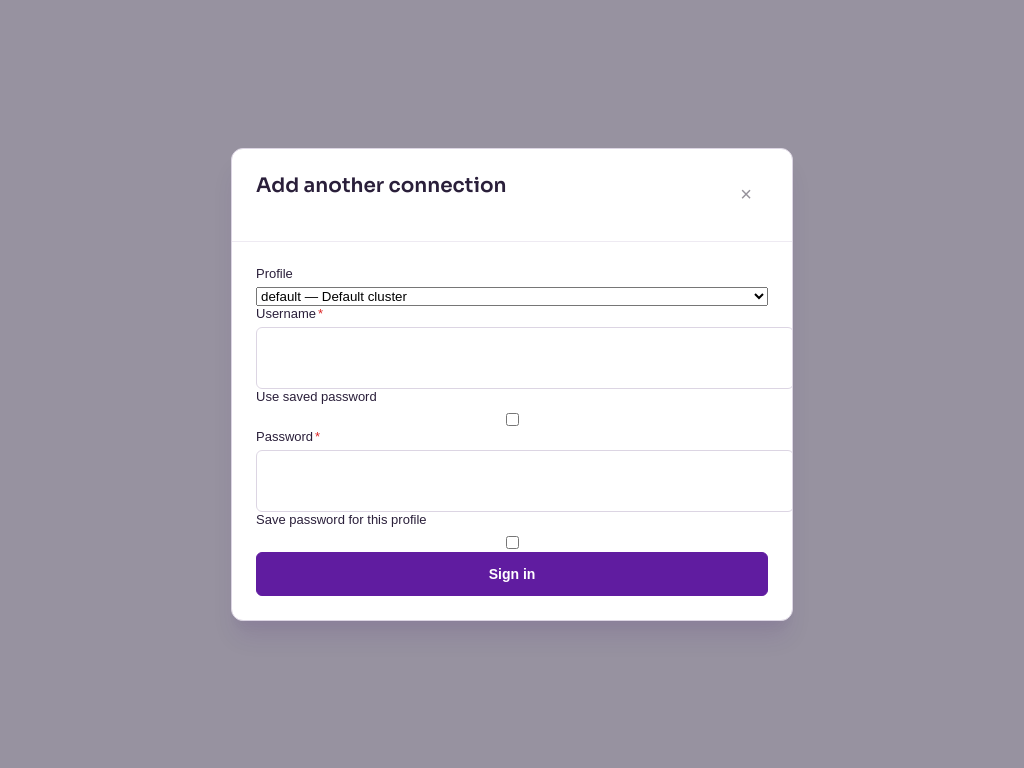
Test case: PSR-G04: submit failure renders an inline error message
Check: the dropdown labelled "Profile" is shown, box [256, 286, 768, 306]
In the field labelled "Username*": (525, 358) [256, 326, 794, 388], type "alice"
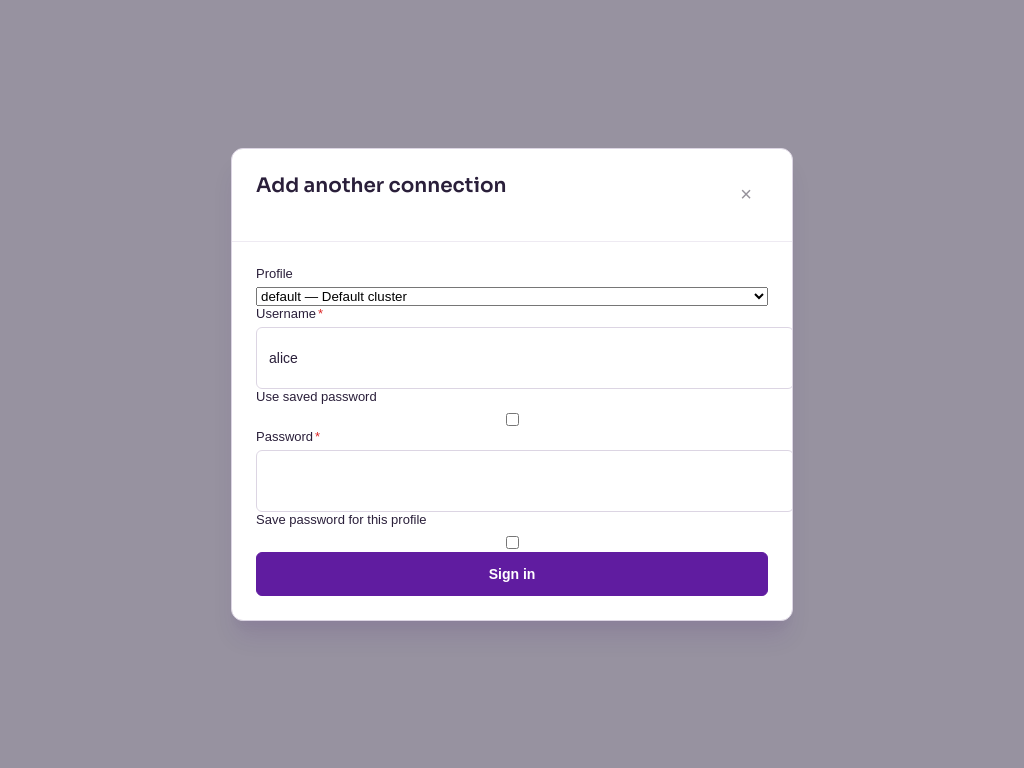
In the password field labelled "Password*": (525, 480) [256, 450, 794, 512], type "pw"
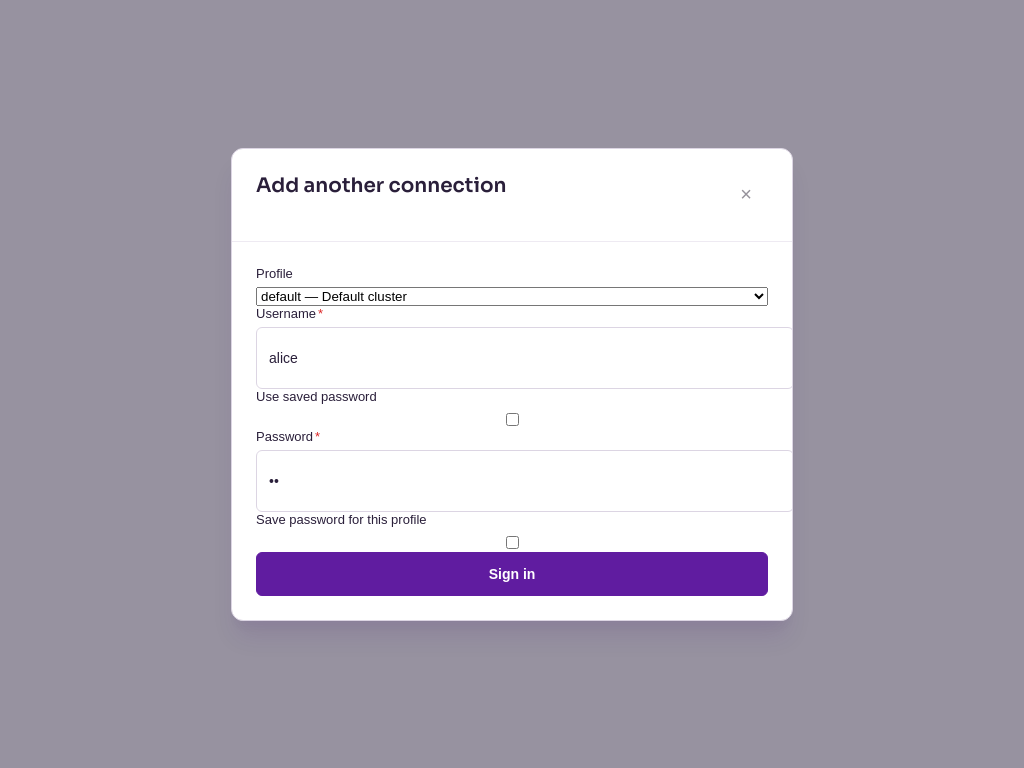
Submit the form labelled "Username", box [256, 266, 768, 596]
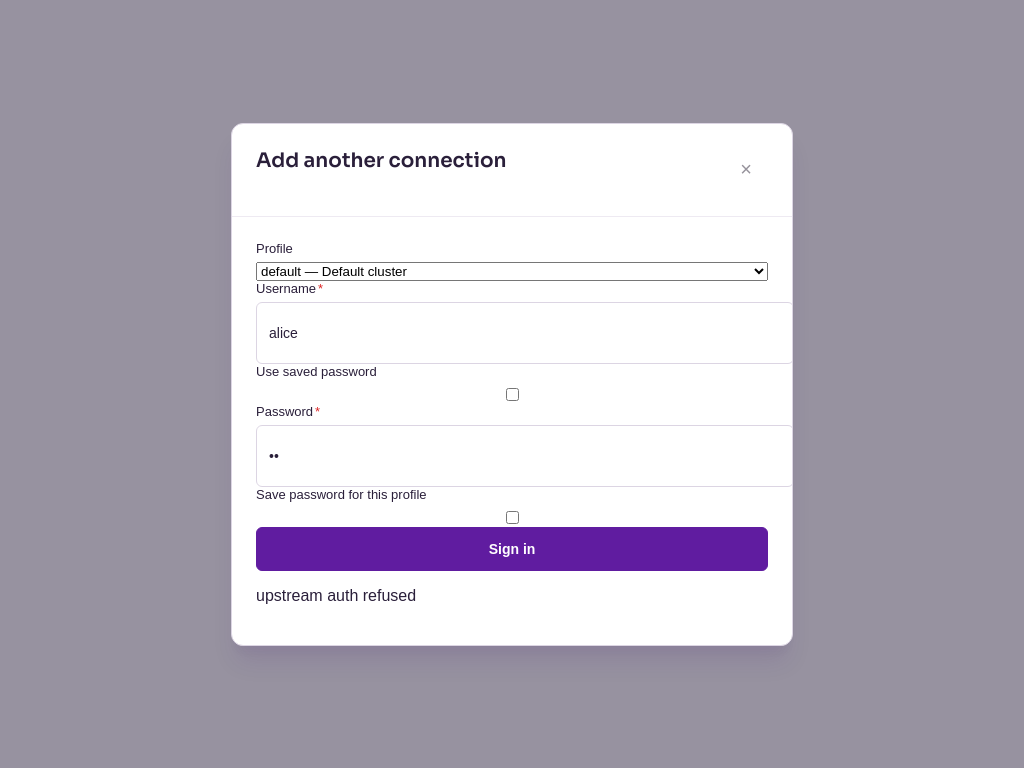
Check: the message reads "upstream auth refused", box [256, 586, 416, 604]
